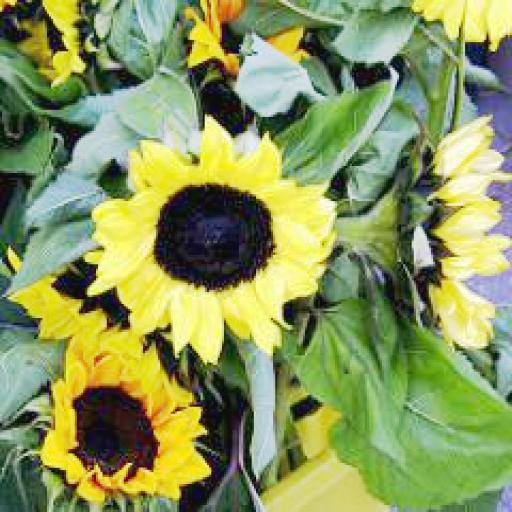sunflower: (88, 117, 337, 348), (47, 328, 213, 500), (418, 115, 512, 346)
